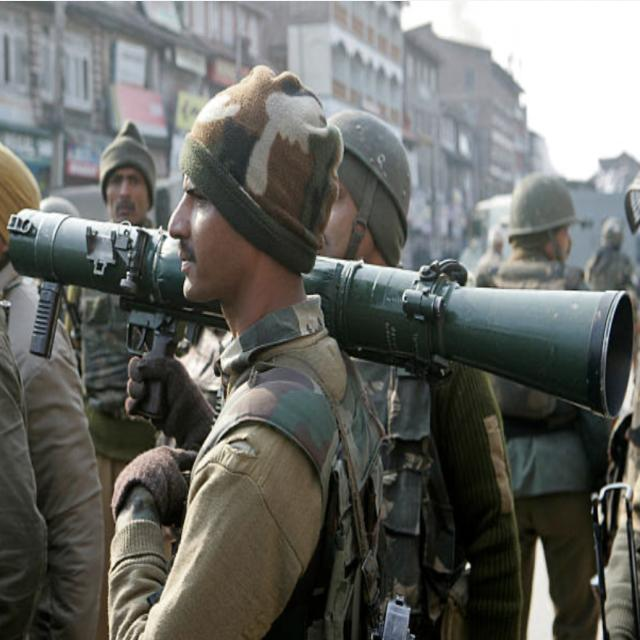bazooka: (15, 188, 639, 450)
